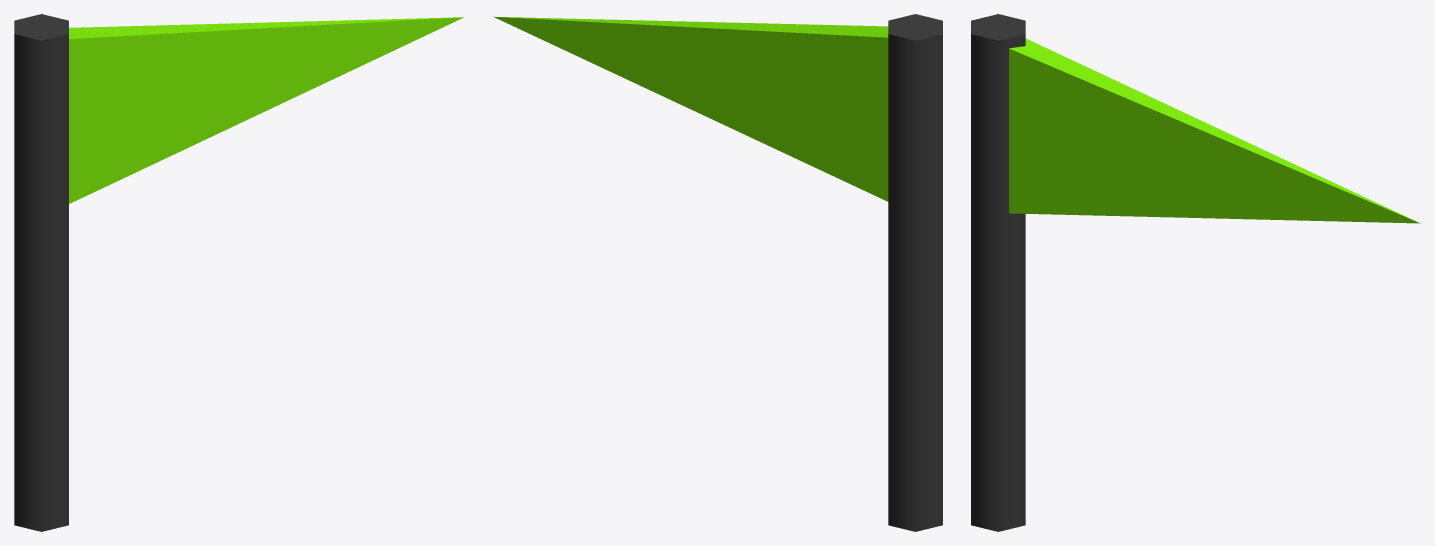
Rendered from Castle_Block_G2.FBX.
3 renders of one model, left to right at view 1: azimuth 30°, elevation 25°; view 2: azimuth 150°, elevation 25°; view 3: azimuth 330°, elevation 25°, orthographic.
Visible parts, largest first — view 1: Castle_block_G; view 2: Castle_block_G; view 3: Castle_block_G.
Boxes of the visible parts, x1,y1,x2,y2 form: Castle_block_G: (14,14,463,531); Castle_block_G: (493,14,942,531); Castle_block_G: (971,14,1420,531).
Size of the model in its own units: 17.37 by 18.11 by 1.83.
